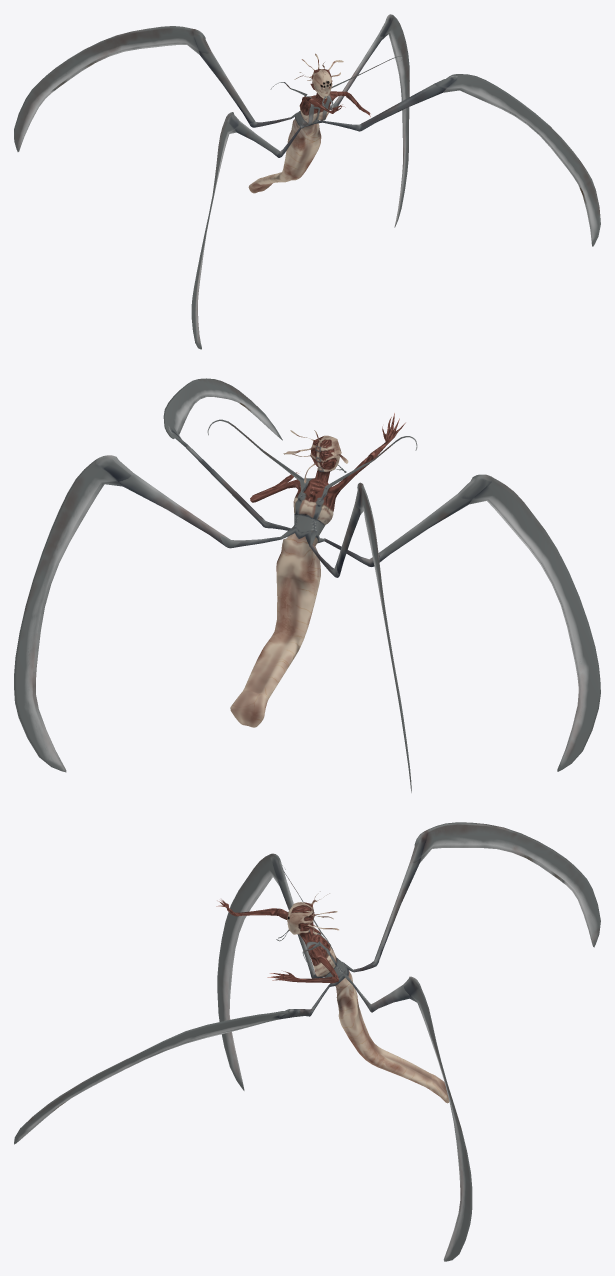
The model's file is Scissors_1.glb.
3 views of the same model, one above another, from view 1: azimuth 30°, elevation 25°; view 2: azimuth 150°, elevation 25°; view 3: azimuth 270°, elevation 25° (orthographic). The views are drawn at different scales.
Visible parts, largest first — view 1: Scissors_1 Model; view 2: Scissors_1 Model; view 3: Scissors_1 Model.
Boxes of the visible parts, bbox=[...] form: Scissors_1 Model: bbox=[14, 14, 600, 349]; Scissors_1 Model: bbox=[14, 378, 600, 792]; Scissors_1 Model: bbox=[14, 822, 600, 1261].
Size of the model in its own units: 38.55 by 26.68 by 45.9.
1 material, 1 textured.
